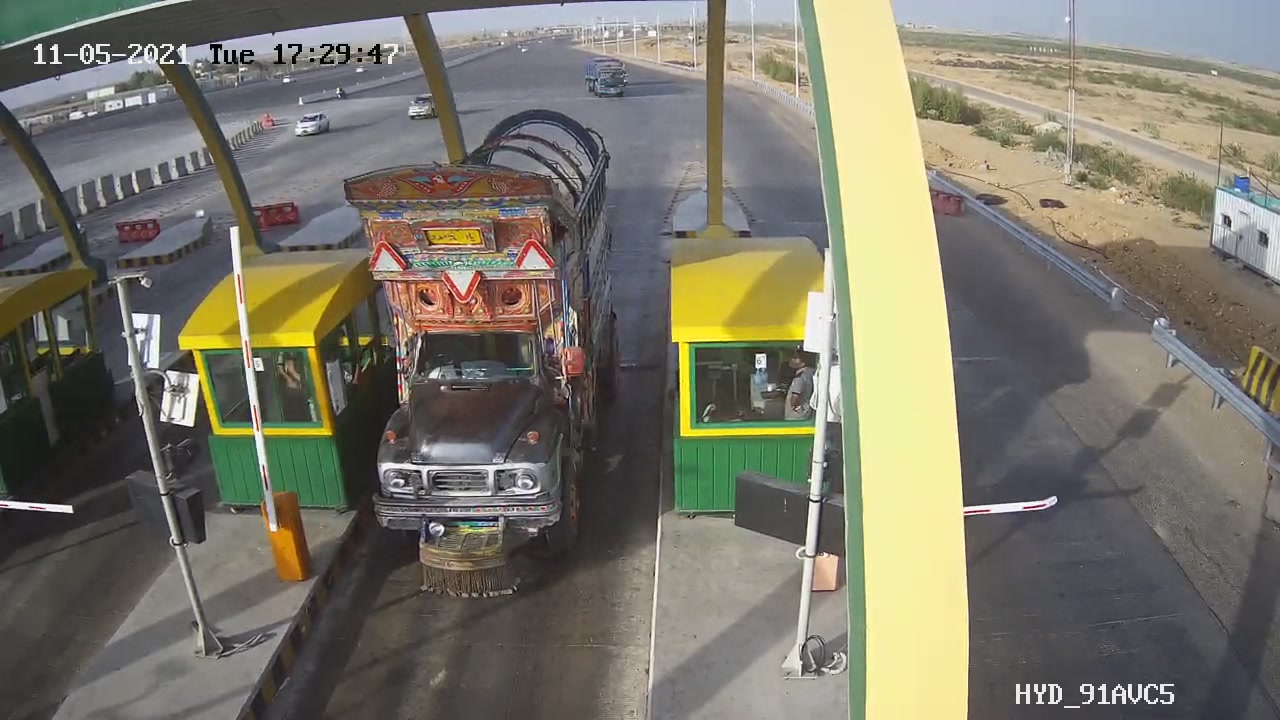F5: (329, 100, 647, 626)
